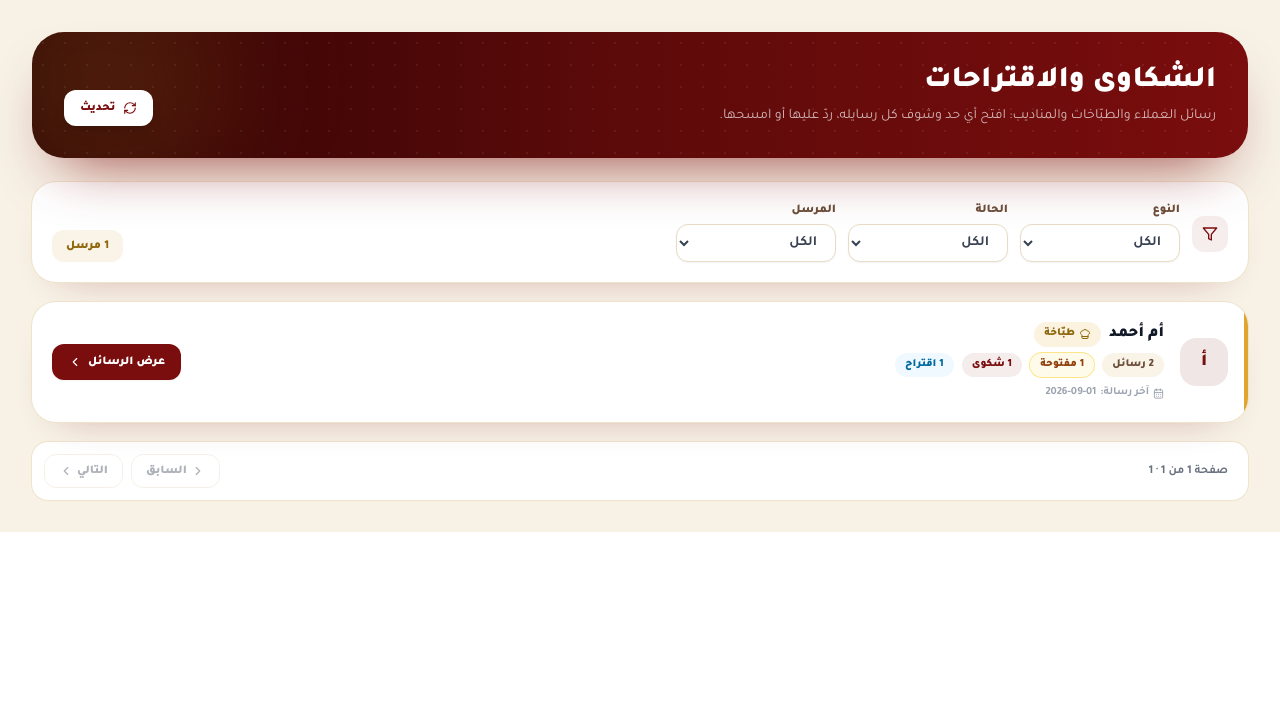
Scenario: Complaints & Suggestions — grouped by sender › delete asks to confirm, then DELETEs and drops the message from the panel
The width and height of the screenshot is (1280, 720).
Expected: the heading "أم أحمد" is shown, [1109,322,1164,346]
Click the button "عرض الرسائل" at (117, 362), box [52,344,181,380]
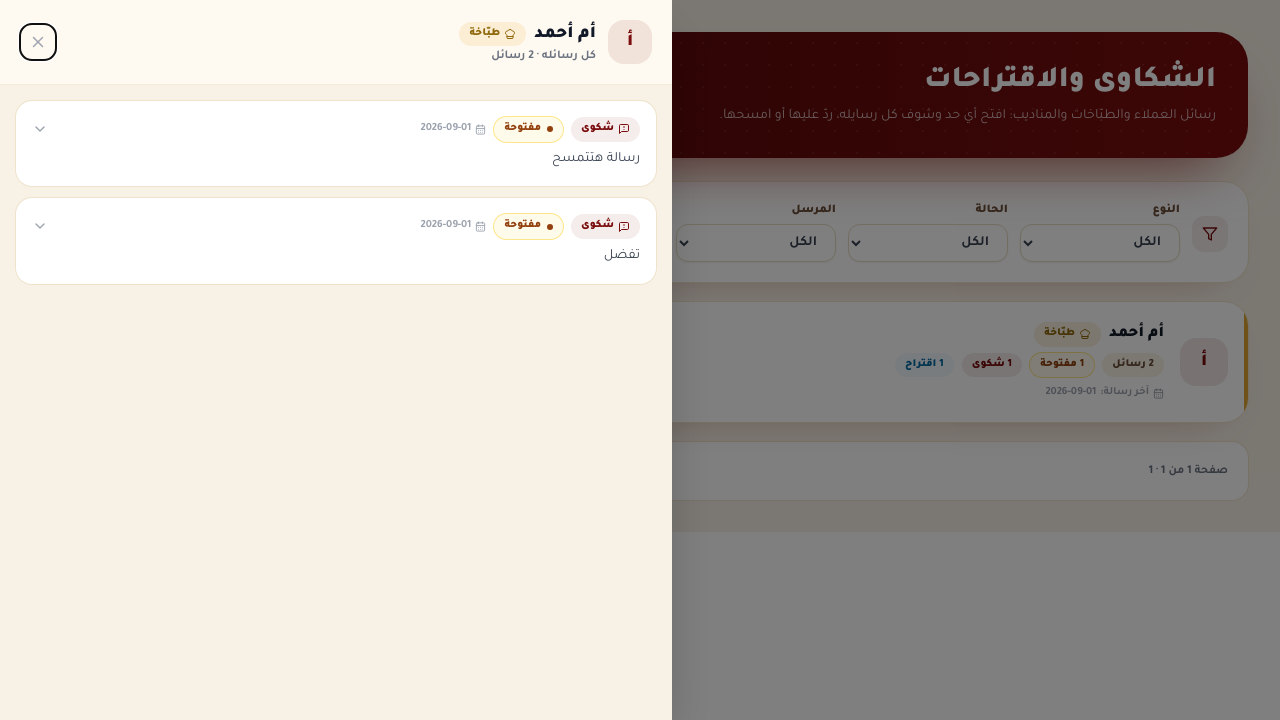
Click the button "شكوى مفتوحة 2026-09-01 رسالة هتتمسح" at (606, 129), box [16,101,656,186]
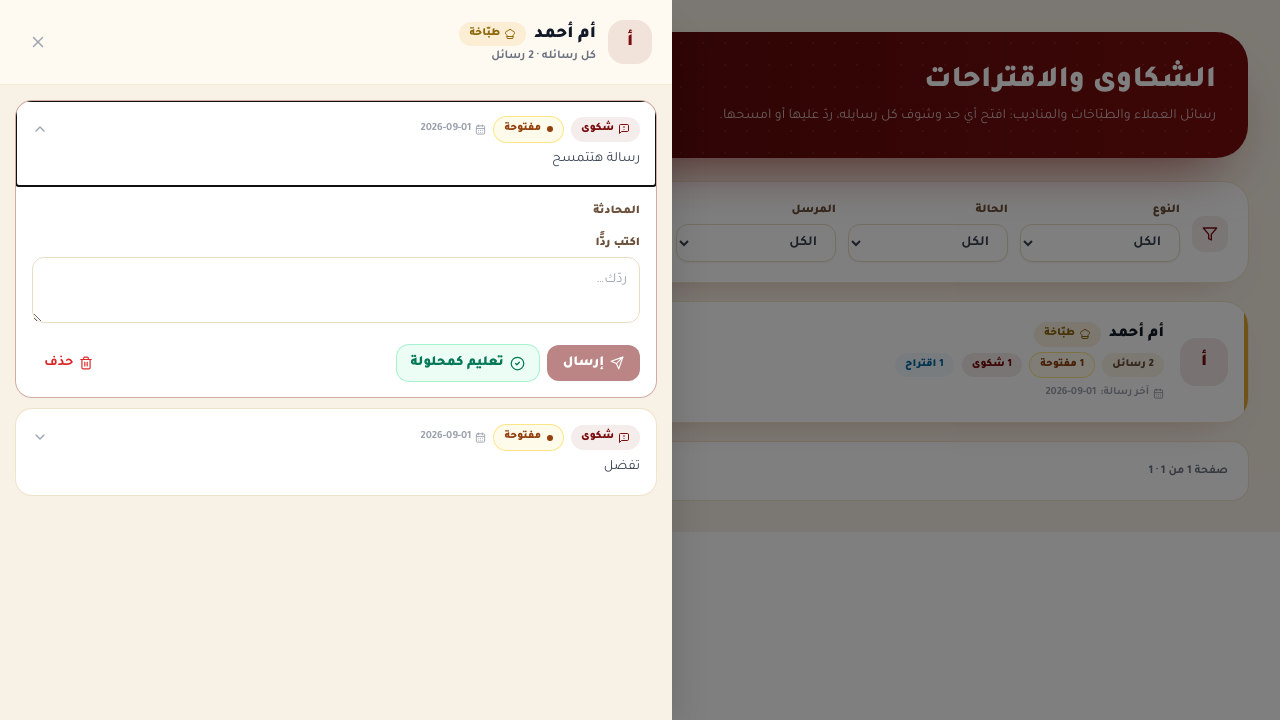
Click the button "حذف" at (69, 363), box [32,345,105,381]
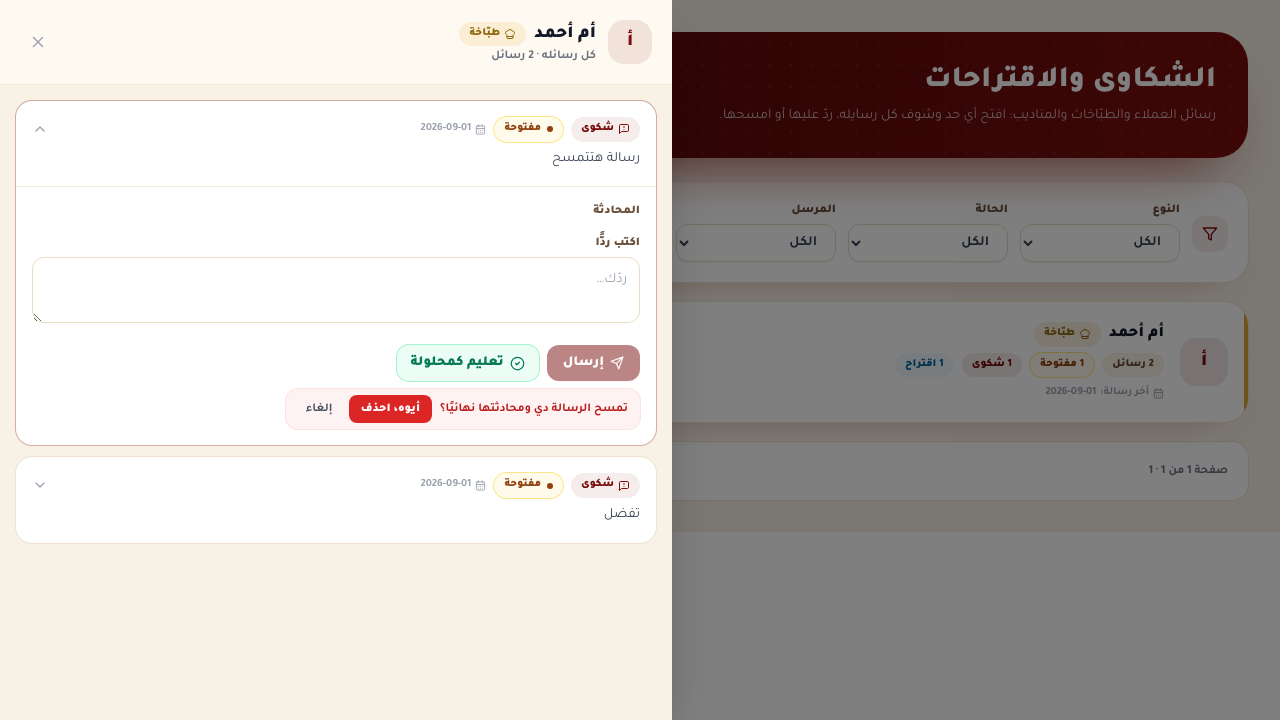
Click the button "أيوه، احذف" at (390, 409), box [348,395,432,423]
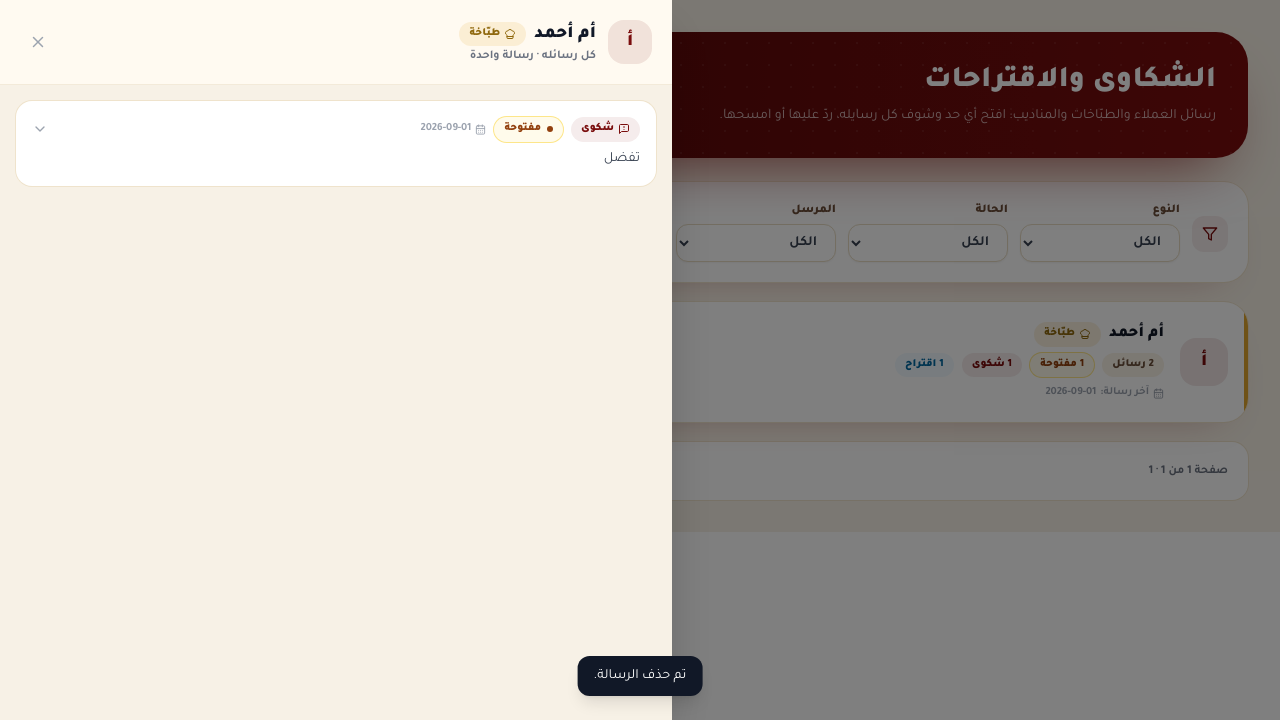
Expected: the text "تفضل" is shown, [604,152,640,166]
Expected: the button "رسالة هتتمسح" is gone
